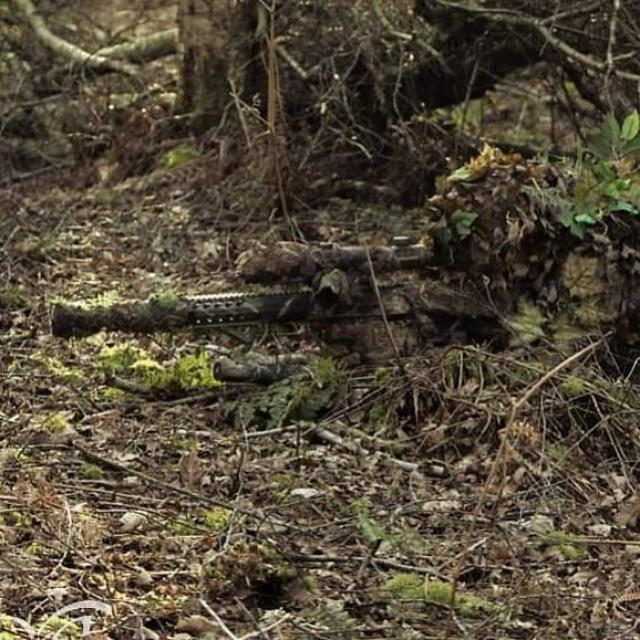animal-human-detection: (51, 145, 637, 336)
